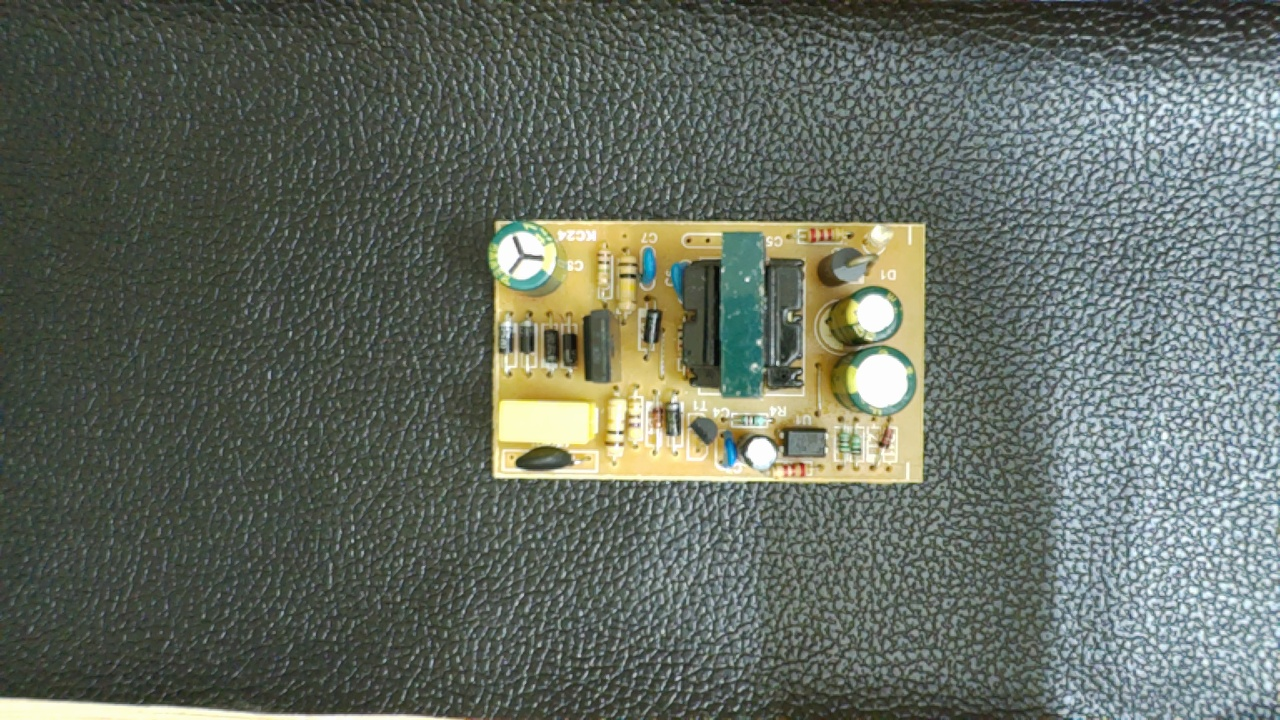fuse: (501, 443, 596, 476)
hv_capacitor: (483, 218, 570, 299)
optocoupler: (773, 425, 834, 462)
